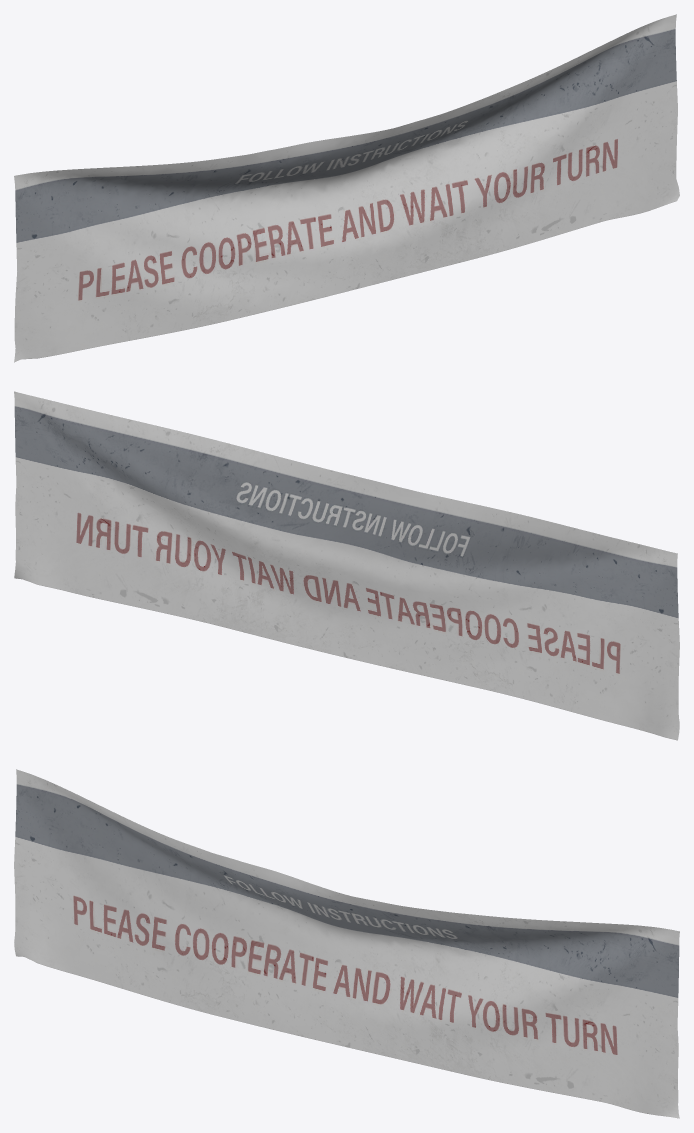
File: SM_Banner.glb
3 views of the same model, one above another, from view 1: azimuth 30°, elevation 25°; view 2: azimuth 150°, elevation 25°; view 3: azimuth 330°, elevation 25° (orthographic).
Parts seen in each view (by area): view 1: SM_Banner; view 2: SM_Banner; view 3: SM_Banner.
Boxes of the visible parts, x1,y1,x2,y2 form: SM_Banner: [14, 14, 679, 362]; SM_Banner: [14, 391, 679, 740]; SM_Banner: [14, 769, 679, 1118].
Size of the model in its own units: 2.6 by 0.714 by 0.1733.
1 material, 1 textured.
